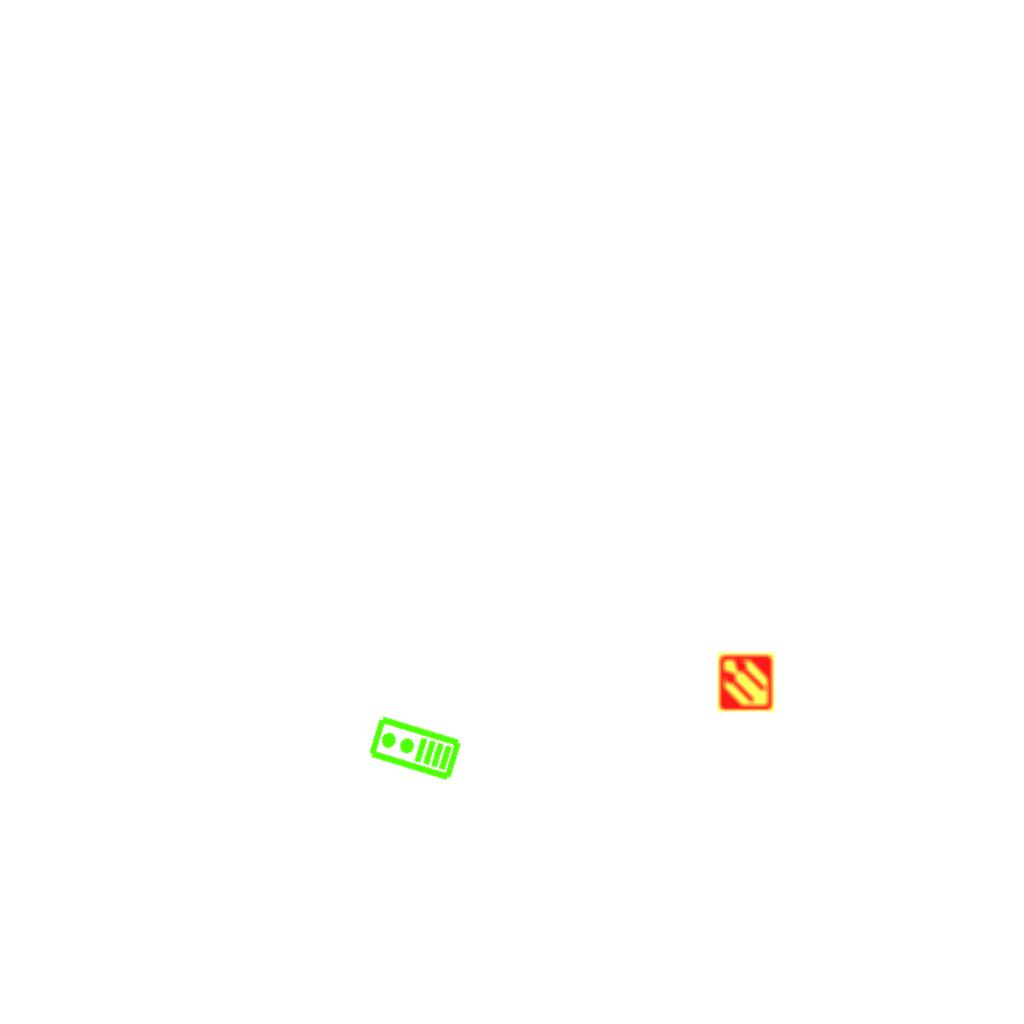ASR_Ansaugrauchmelder: (715, 651, 777, 713)
Gegensprechanlage_mit_Video: (365, 713, 464, 785)
